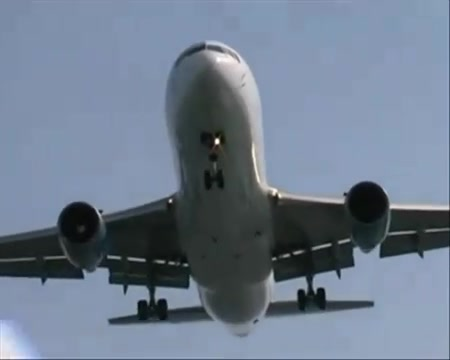aeroplane: (3, 34, 450, 341)
